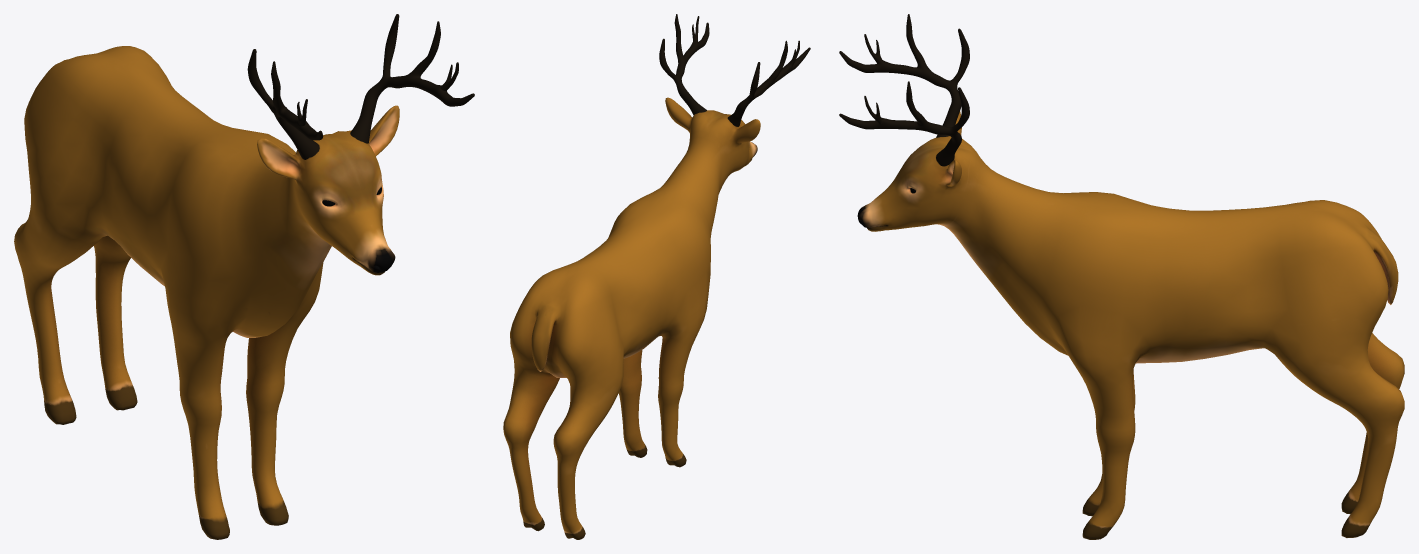
Rendered from venado.obj.
The picture shows the model from 3 angles, left to right: view 1: azimuth 30°, elevation 25°; view 2: azimuth 150°, elevation 25°; view 3: azimuth 270°, elevation 25°; orthographic projection. The views are drawn at different scales.
Visible parts, largest first — view 1: Plane.001_Plane.002_cuerpo.002, Plane.001_Plane.002_cuernos; view 2: Plane.001_Plane.002_cuerpo.002, Plane.001_Plane.002_cuernos; view 3: Plane.001_Plane.002_cuerpo.002, Plane.001_Plane.002_cuernos.
Boxes of the visible parts, bbox=[...] form: Plane.001_Plane.002_cuerpo.002: bbox=[14, 46, 399, 539]; Plane.001_Plane.002_cuernos: bbox=[247, 14, 474, 159]; Plane.001_Plane.002_cuerpo.002: bbox=[503, 97, 760, 539]; Plane.001_Plane.002_cuernos: bbox=[659, 14, 810, 126]; Plane.001_Plane.002_cuerpo.002: bbox=[857, 111, 1404, 539]; Plane.001_Plane.002_cuernos: bbox=[839, 14, 969, 166].
Size of the model in its own units: 0.0245 by 0.0786 by 0.0844.
3 materials, 1 textured.
